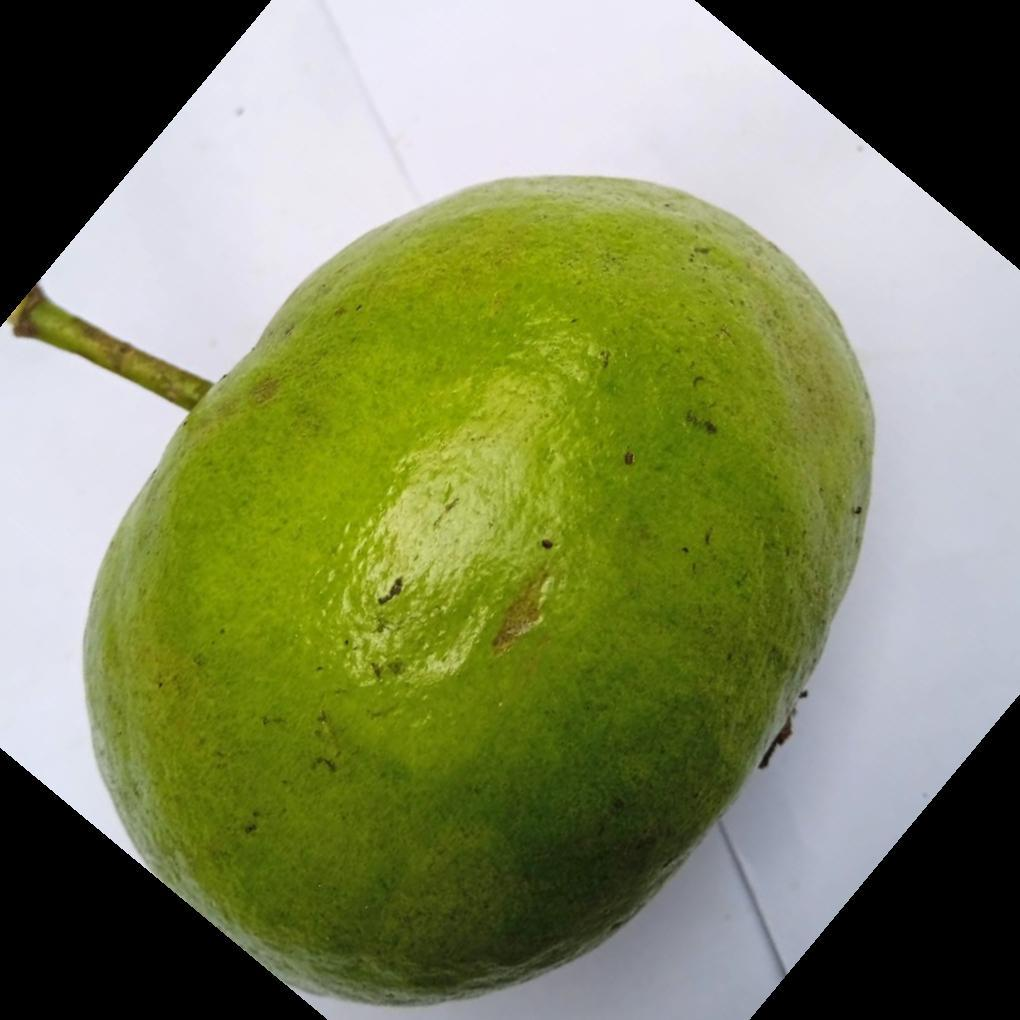FreshGuava: (80, 174, 876, 1010)
